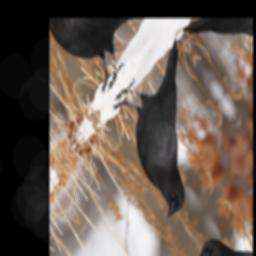Crow: (98, 24, 240, 227)
